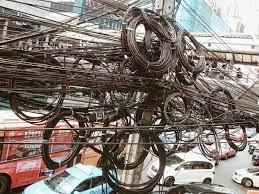wires: (72, 30, 259, 132)
